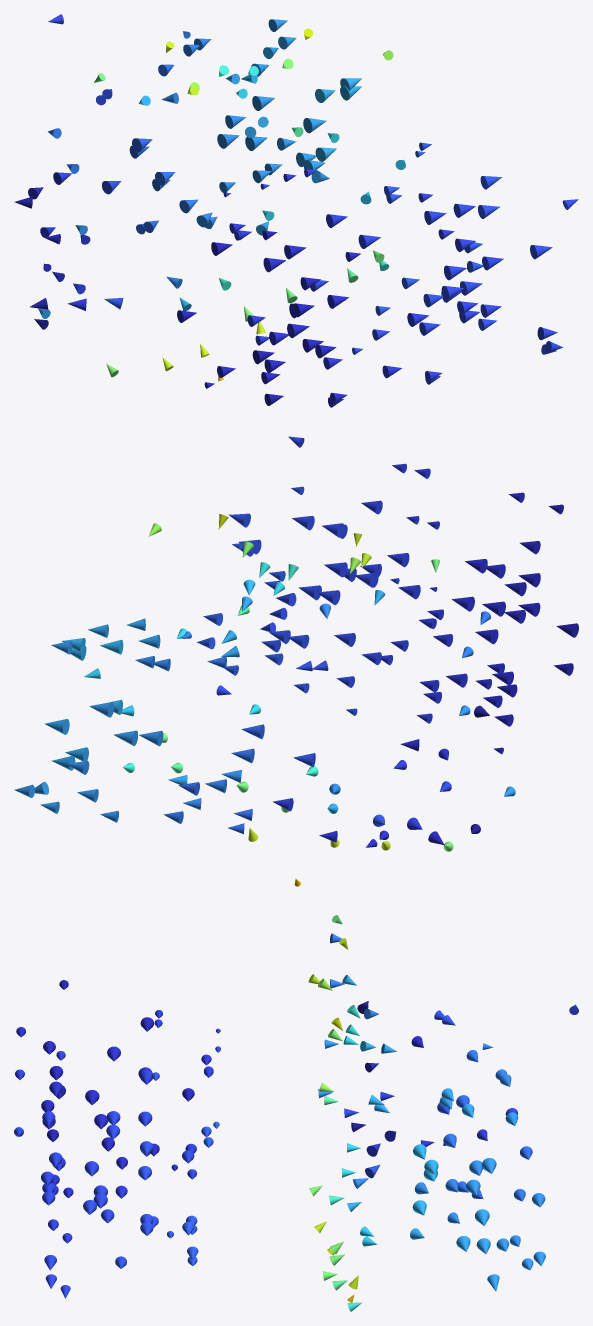
Rendered from LineasCorrienteN2-H2O_mh2-2.70_V-1.glb.
The picture shows the model from 3 angles, top to bottom: view 1: azimuth 30°, elevation 25°; view 2: azimuth 150°, elevation 25°; view 3: azimuth 270°, elevation 25°; orthographic projection. The views are drawn at different scales.
Bounding box in the file's own units: 0.000958 × 0.000826 × 0.00125.
Materials: 2 (2 with a texture image).
